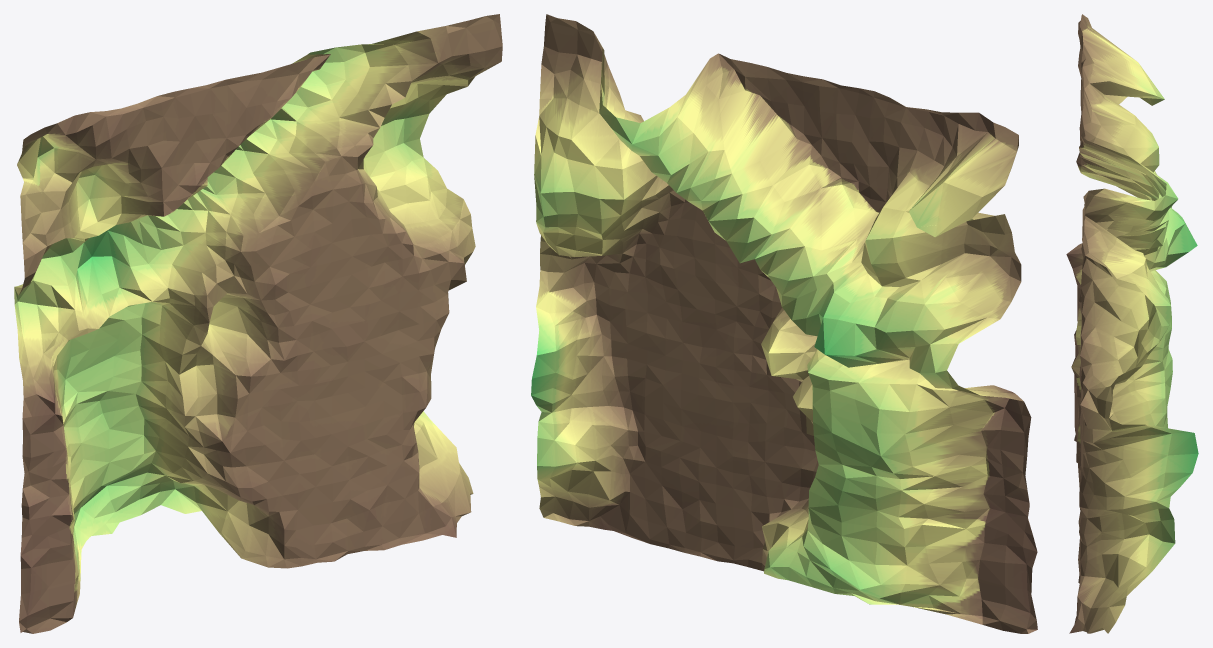
Rendered from refine_depth.obj.
3 views of the same model, side by side, from view 1: azimuth 30°, elevation 25°; view 2: azimuth 150°, elevation 25°; view 3: azimuth 270°, elevation 25° (orthographic). The views are drawn at different scales.
Bounding box in the file's own units: 74.49 × 74.52 × 19.89.
1 material, 1 textured.
